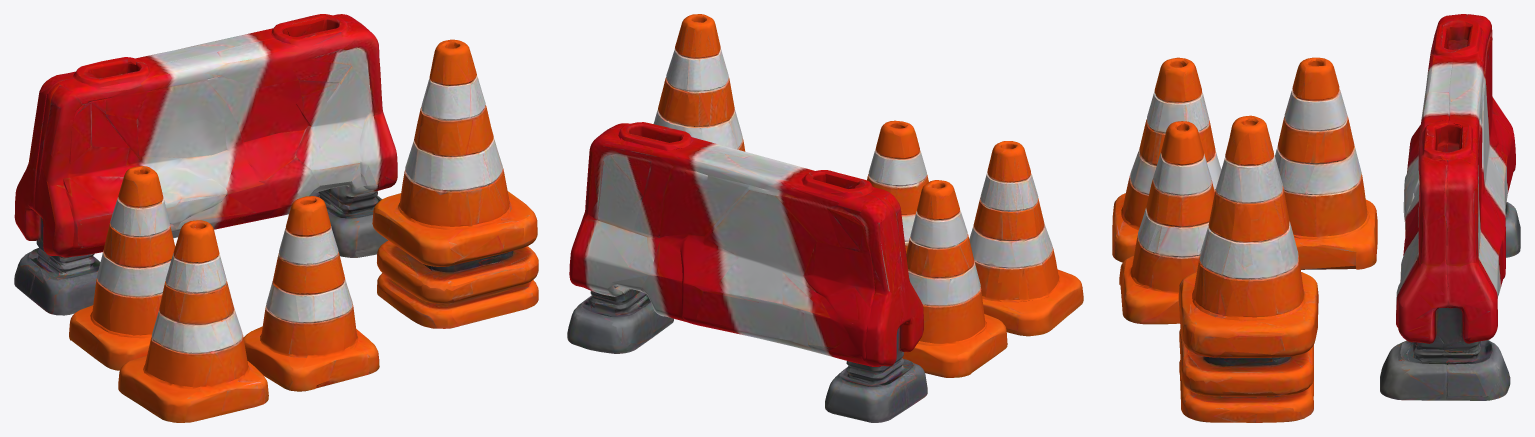
Rendered from prop_cones.glb.
3 views of the same model, side by side, from view 1: azimuth 30°, elevation 25°; view 2: azimuth 150°, elevation 25°; view 3: azimuth 270°, elevation 25° (orthographic). The views are drawn at different scales.
Size of the model in its own units: 1.9 by 1.1 by 1.52.
1 material, 1 textured.
